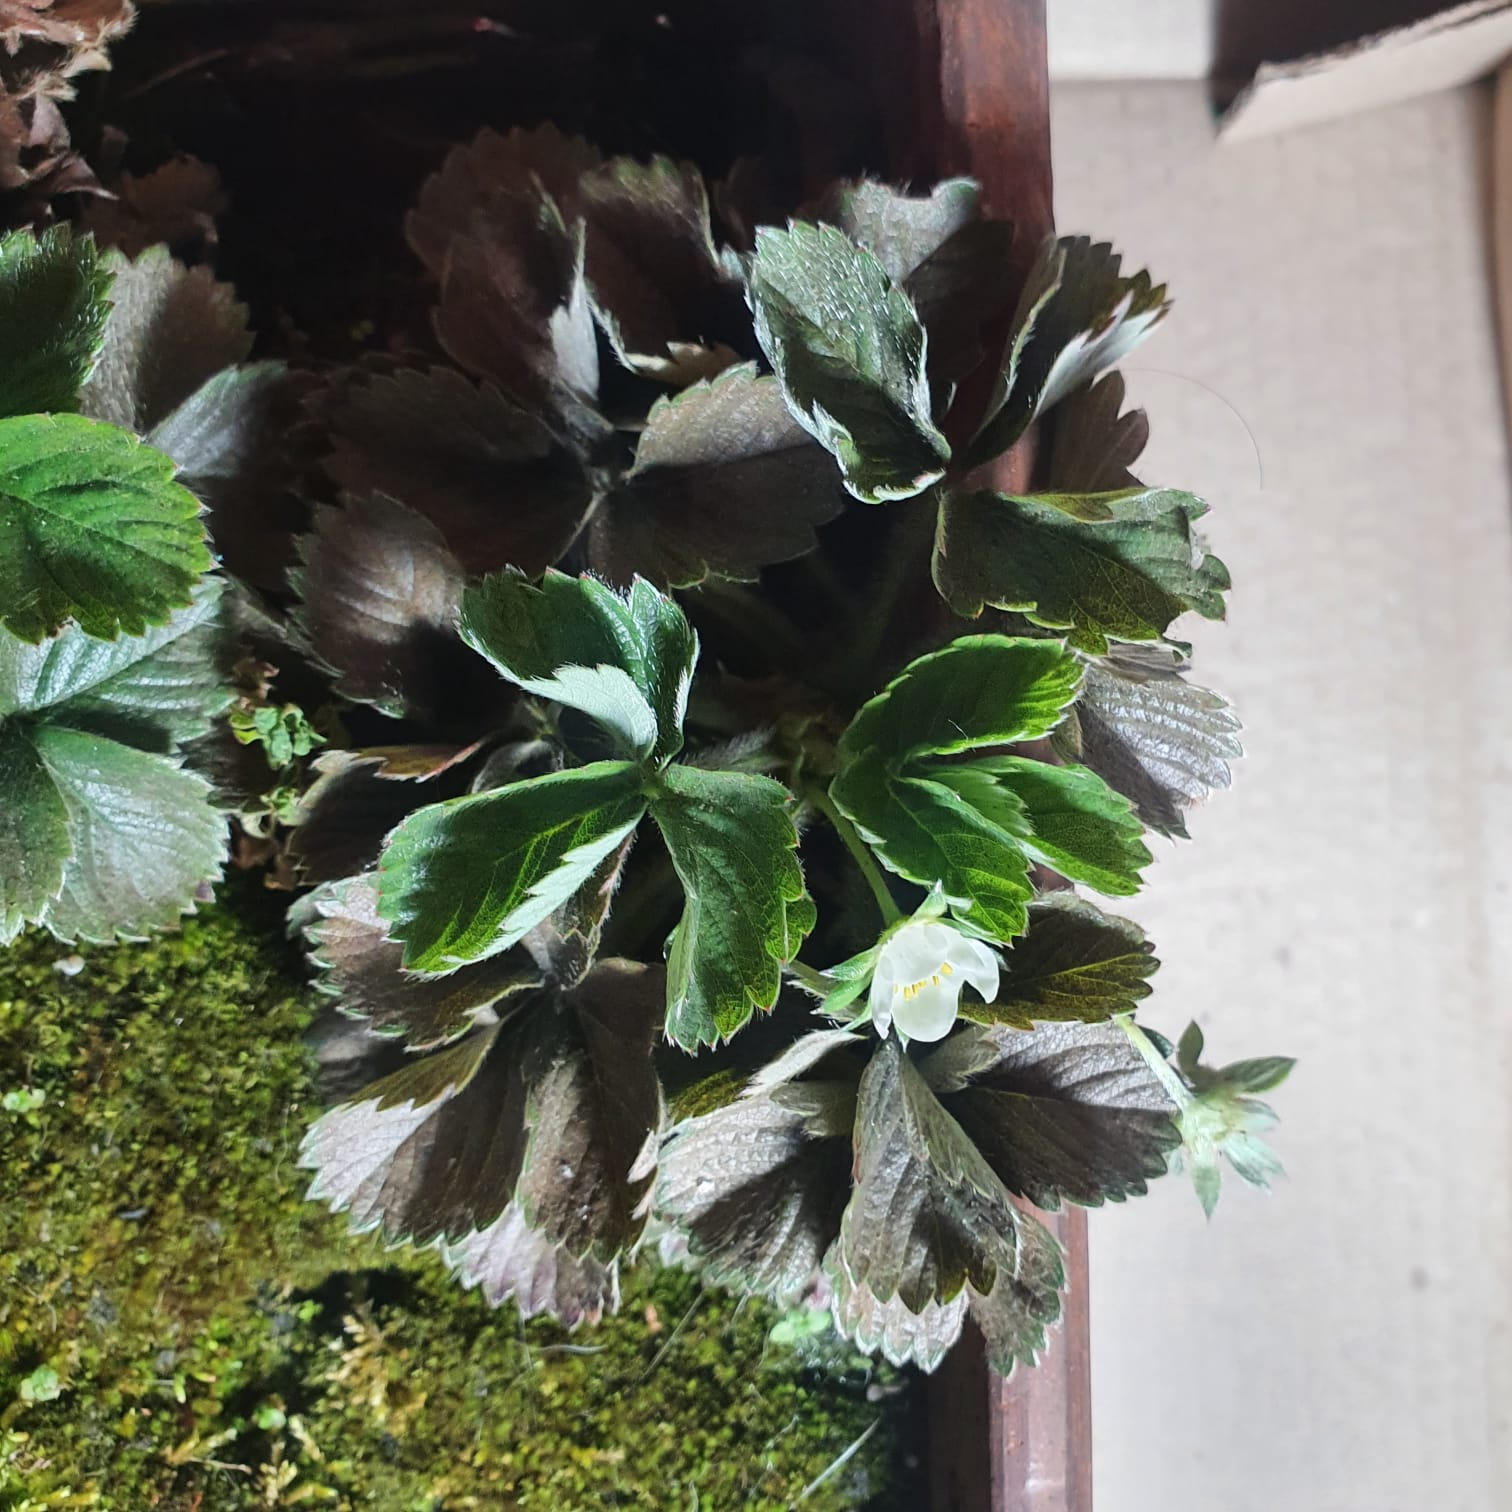tizon_temprano: (310, 926, 654, 1308)
